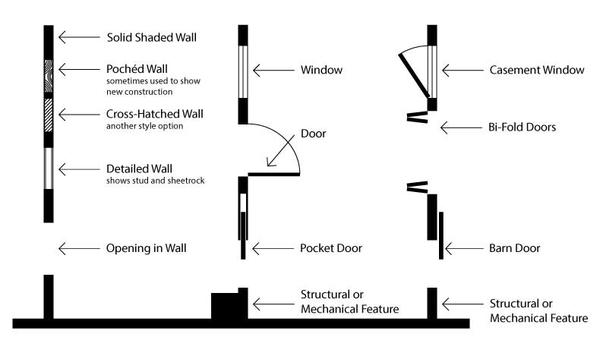door: (232, 177, 251, 262)
wall: (41, 149, 56, 187), (41, 59, 57, 94), (41, 97, 55, 131), (40, 27, 57, 54), (44, 275, 54, 317)
window: (398, 45, 439, 97), (237, 45, 249, 97)
